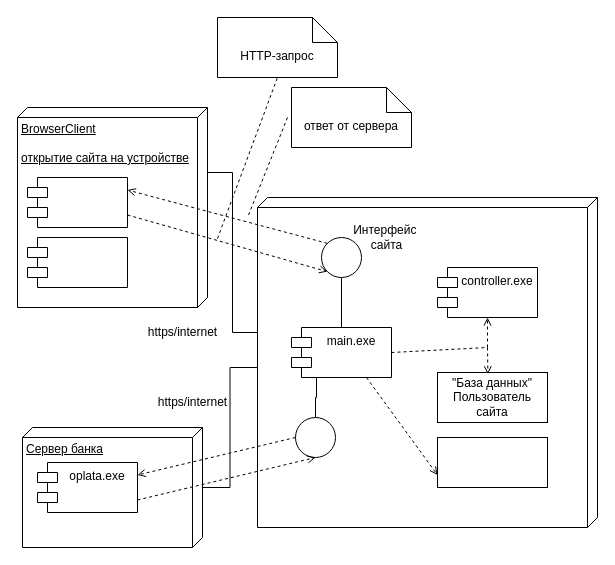
Some shapes in this 615 by 565 pixel diagram are drawn without their labels. Here are the shapes that lost their labels. From the top down, the box of each, then its label:
(26, 176, 128, 228): форма авторизации
(26, 236, 128, 288): форма для оплаты
(256, 196, 598, 528): Сервера
(436, 436, 548, 488): "База данных" Сертификаты
